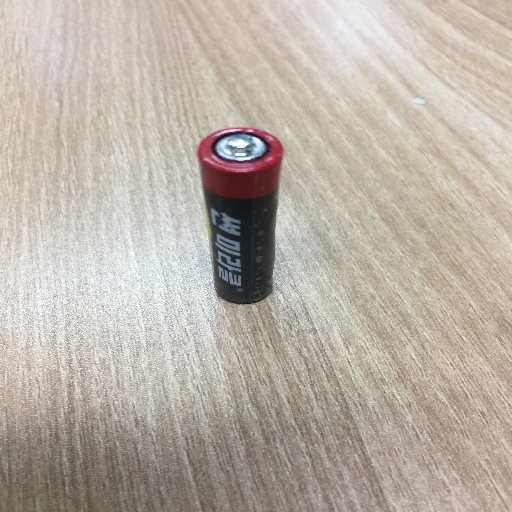Battery_0: (189, 111, 295, 320)
